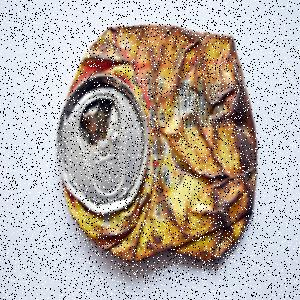Can: (57, 25, 259, 264)
